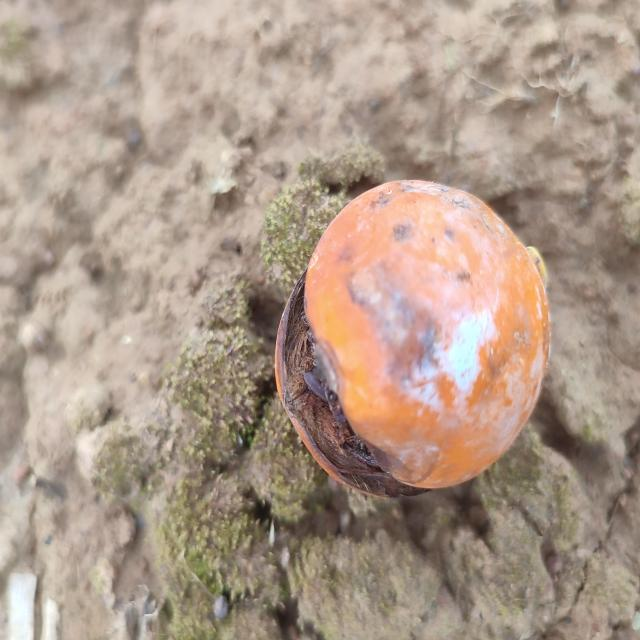damaged: (280, 180, 552, 495)
